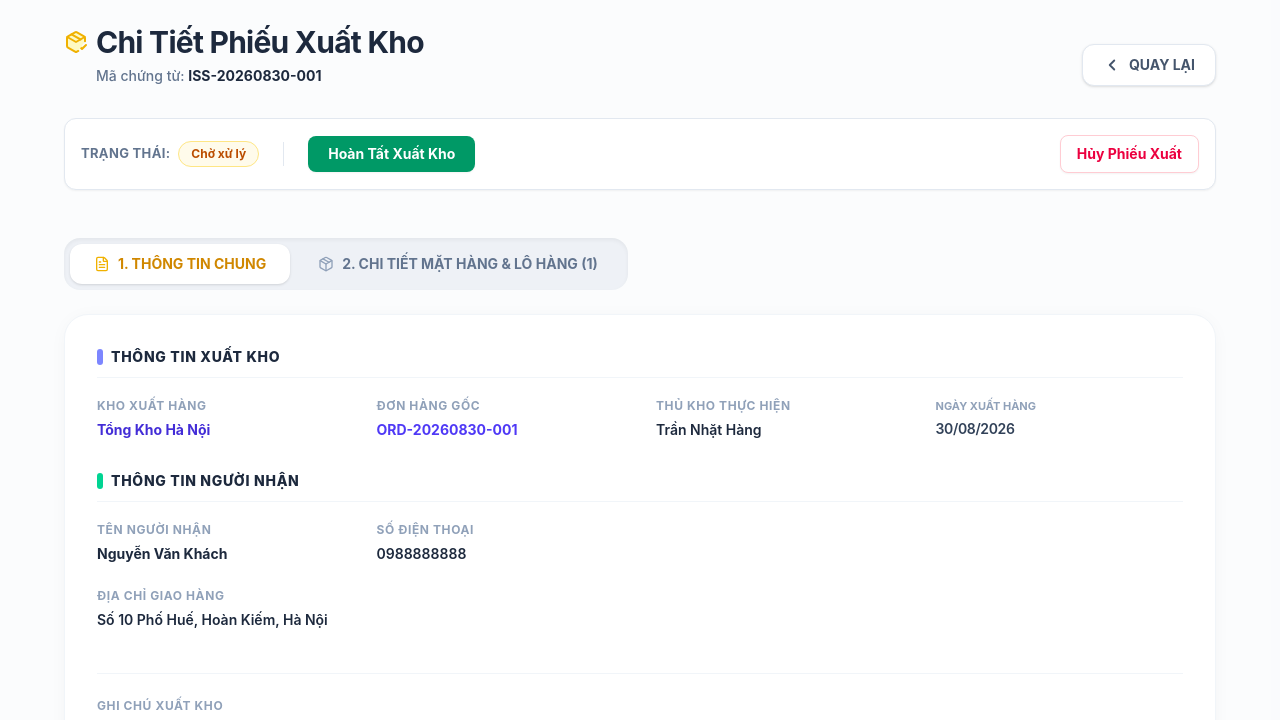
Module 10 - InventoryIssueDetail Component › TC02 - Chuyển sang tab danh sách mặt hàng hiển thị chi tiết mã SKU, Lô và thành tiền
Expected: the text "ISS-20260830-001" is shown, left=188, top=67, right=322, bottom=84
Click the button "2. CHI TIẾT MẶT HÀNG & LÔ HÀNG (1)". click: (458, 264)
box: left=294, top=244, right=622, bottom=284
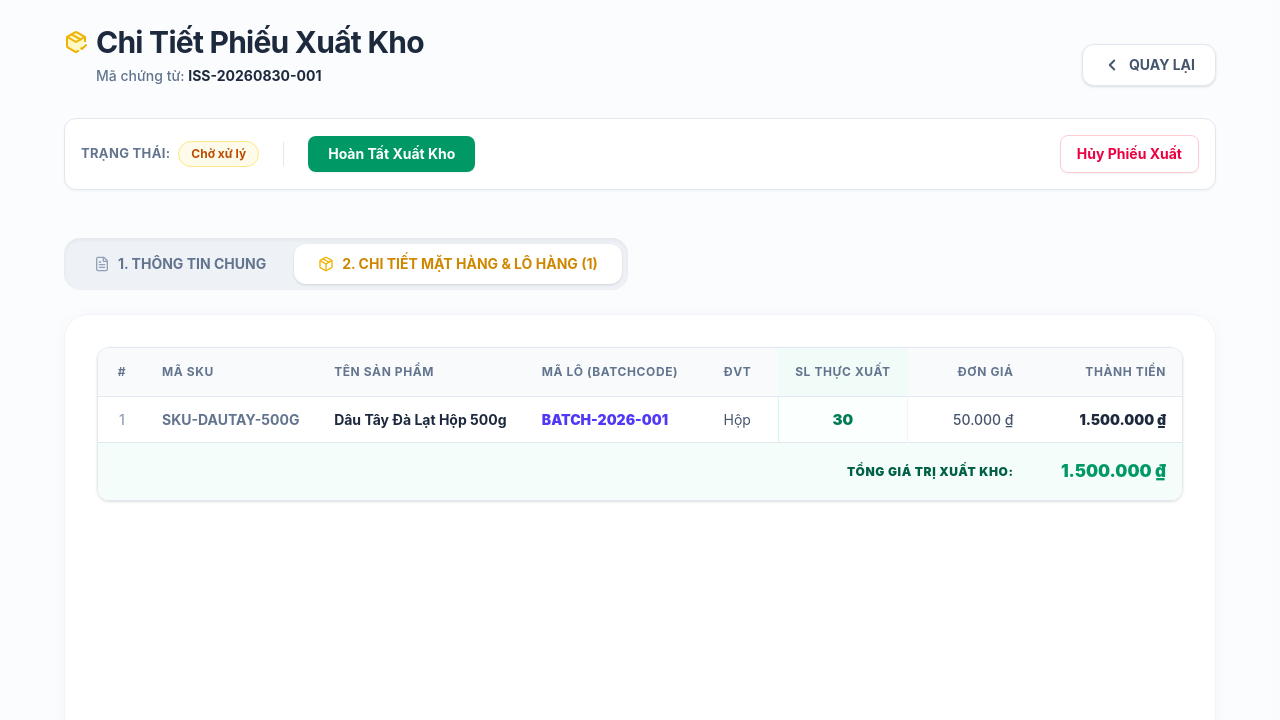
Expected: the text "30" is shown, left=832, top=410, right=853, bottom=429
Expected: the text "Dâu Tây Đà Lạt Hộp 500g" is shown, left=318, top=396, right=526, bottom=443
Expected: the text "BATCH-2026-001" is shown, left=526, top=396, right=697, bottom=443
